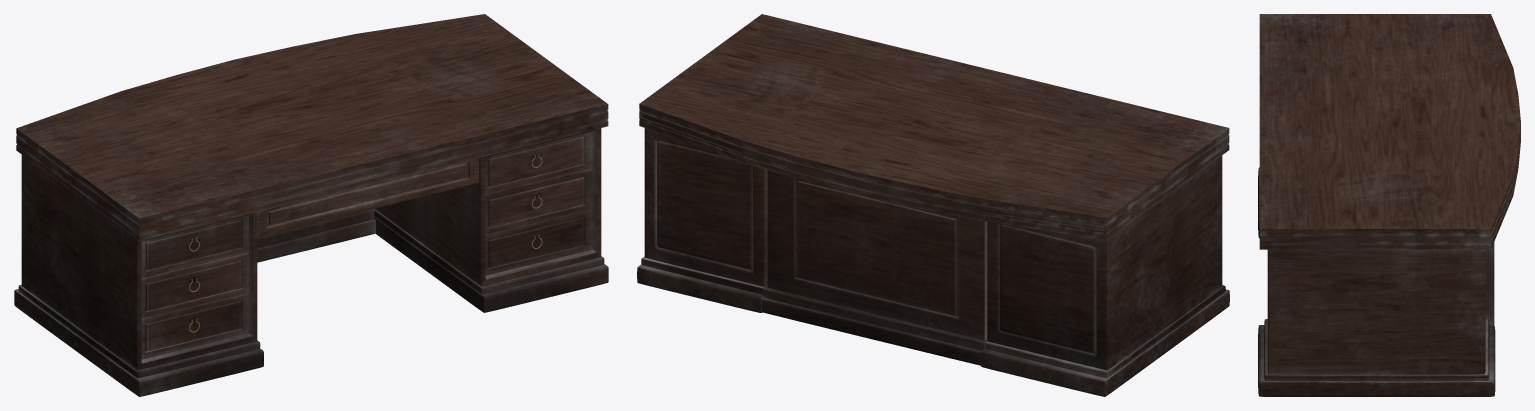
File: M_ChairmanDesk.fbx
3 renders of one model, left to right at view 1: azimuth 30°, elevation 25°; view 2: azimuth 150°, elevation 25°; view 3: azimuth 270°, elevation 25°, orthographic. The views are drawn at different scales.
Parts seen in each view (by area): view 1: Hdesk_GEO, drawerL_02_GEO, drawerR_02_GEO, drawerL_03_GEO, drawerR_03_GEO, drawerR_01_GEO, drawerL_01_GEO; view 2: Hdesk_GEO; view 3: Hdesk_GEO.
Boxes of the visible parts, box(x1,y1,x2,y2) form: Hdesk_GEO: box(14, 14, 608, 396); drawerL_02_GEO: box(141, 252, 248, 319); drawerR_02_GEO: box(485, 168, 592, 235); drawerL_03_GEO: box(141, 293, 248, 359); drawerR_03_GEO: box(485, 209, 592, 275); drawerR_01_GEO: box(485, 131, 592, 194); drawerL_01_GEO: box(141, 215, 248, 278); Hdesk_GEO: box(637, 14, 1229, 396); Hdesk_GEO: box(1258, 14, 1520, 396).
Bounding box in the file's own units: 150 × 54.63 × 77.27.
Materials: 1 (1 with a texture image).
